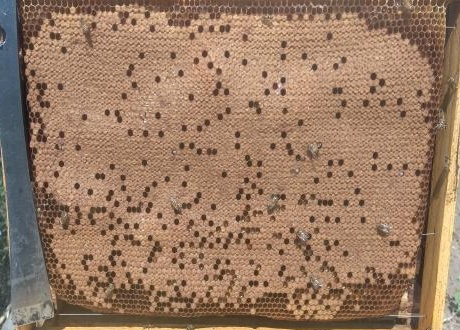cria: (23, 3, 438, 320)
